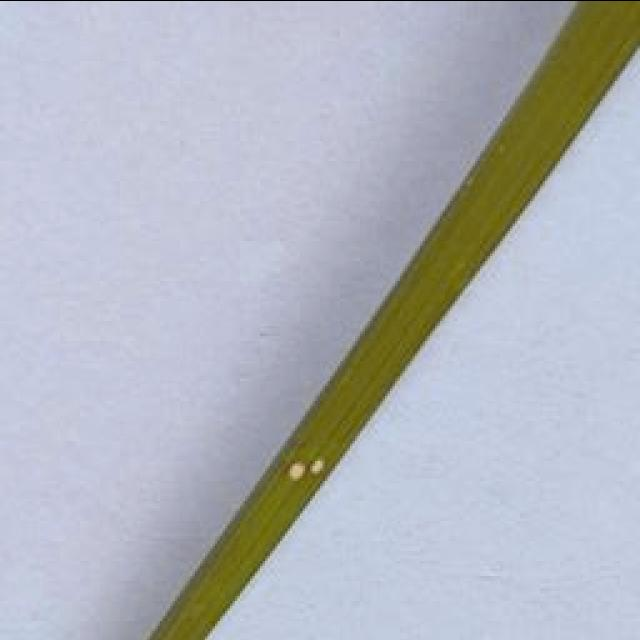Unhealthy: (308, 456, 326, 479), (286, 460, 305, 481)
